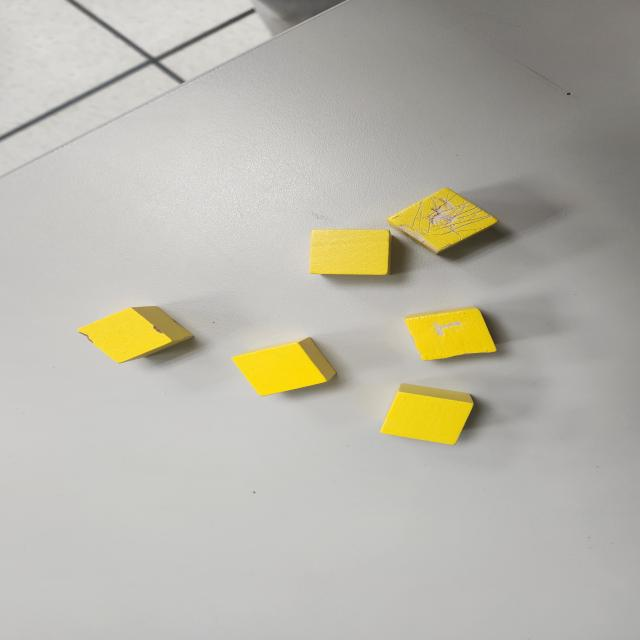broken: (386, 187, 498, 256), (76, 306, 193, 363), (402, 306, 498, 362)
yellow: (231, 336, 337, 397), (379, 384, 475, 445), (307, 229, 392, 277)
